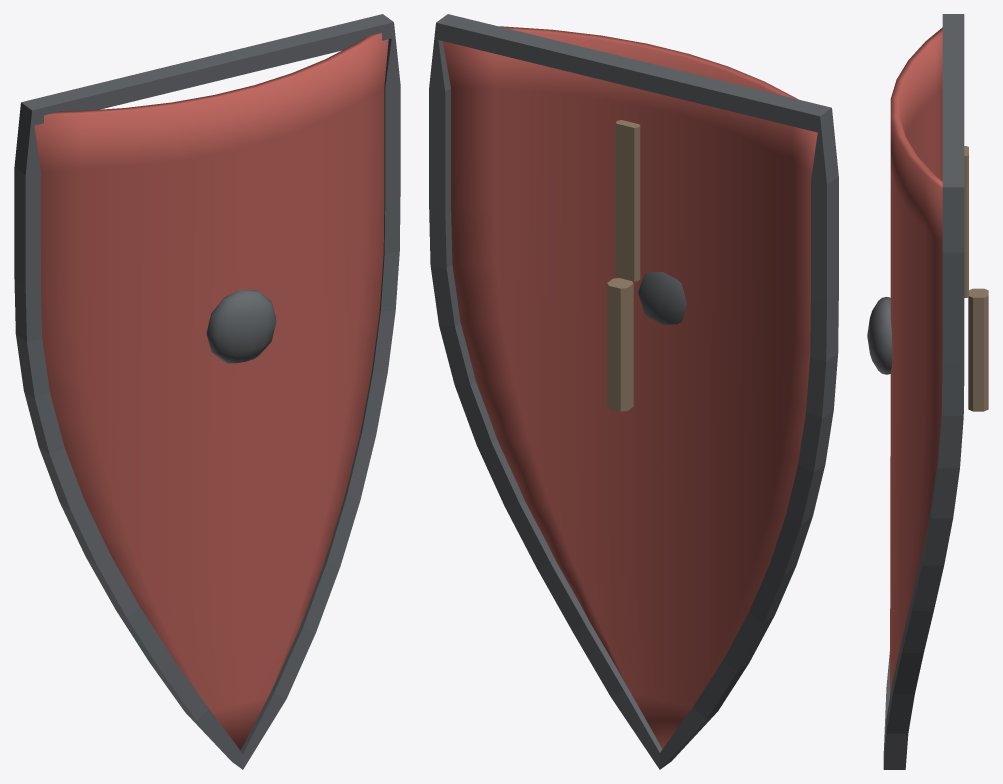
File: shield_kite.glb
The picture shows the model from 3 angles, left to right: view 1: azimuth 30°, elevation 25°; view 2: azimuth 150°, elevation 25°; view 3: azimuth 270°, elevation 25°; orthographic projection. The views are drawn at different scales.
Visible parts, largest first — view 1: shield_kite; view 2: shield_kite; view 3: shield_kite.
Part boxes in pixels (x1,y1,x2,y2): shield_kite: [14, 14, 400, 769]; shield_kite: [429, 14, 838, 769]; shield_kite: [867, 14, 988, 769].
Size of the model in its own units: 0.542 by 0.9419 by 0.155.
